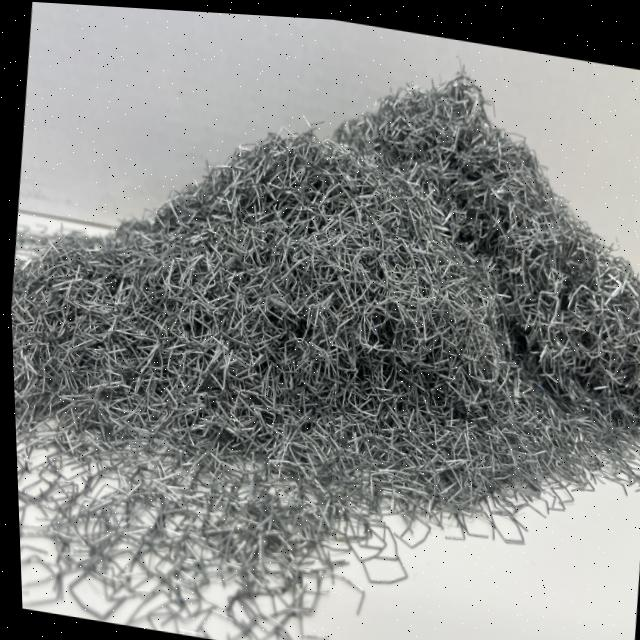staples: (0, 0, 640, 638)
